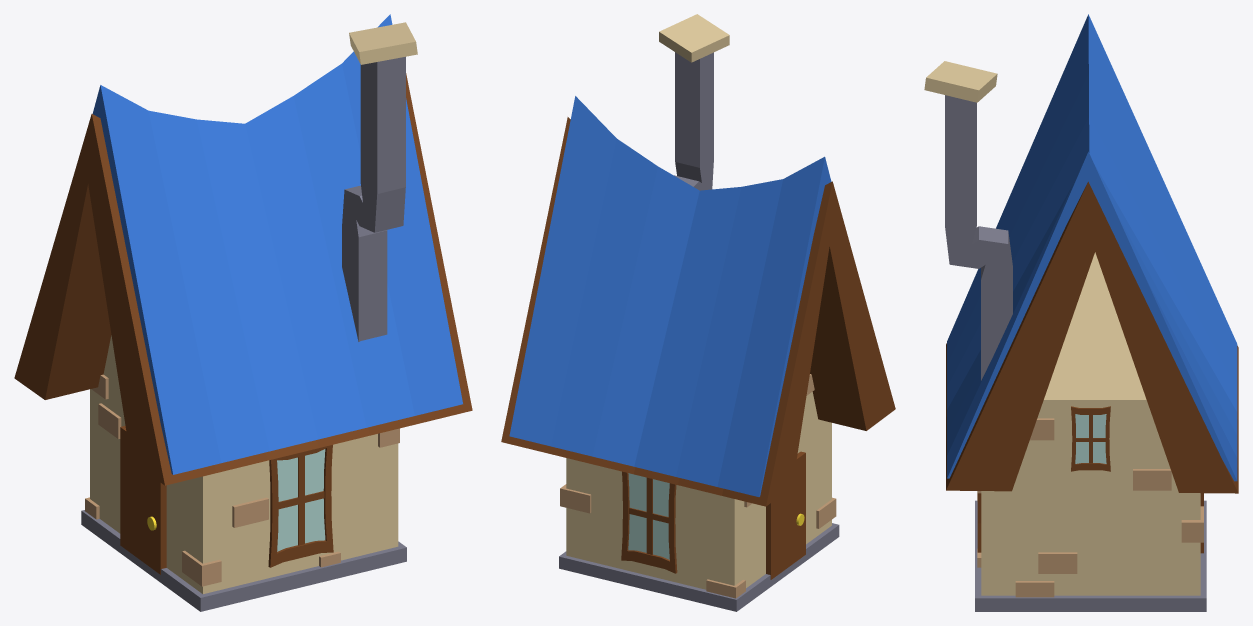
The model's file is HouseBlue.fbx.
The picture shows the model from 3 angles, left to right: view 1: azimuth 30°, elevation 25°; view 2: azimuth 150°, elevation 25°; view 3: azimuth 270°, elevation 25°; orthographic projection. The views are drawn at different scales.
Parts seen in each view (by area): view 1: Roof, UnderLayer, Base, Pole, BaseConcrete, Cube, Glass.001, frame.001, PoleTop, Cube.005, Cube.009; view 2: Roof, UnderLayer, Base, Pole, BaseConcrete, Cube, Glass.002, PoleTop, frame.002, Cube.013, Cross.004, Cube.007; view 3: Roof, Base, UnderLayer, Pole, BaseConcrete, PoleTop, Glass.004, frame.004, Cube.014, Cube.010, Cube.012, Cube.013 (+1 smaller).
Boxes of the visible parts, left/top/right/bottom form: Roof: left=92, top=14, right=462, bottom=474; UnderLayer: left=14, top=73, right=472, bottom=485; Base: left=90, top=335, right=398, bottom=593; Pole: left=342, top=56, right=405, bottom=341; BaseConcrete: left=81, top=510, right=406, bottom=611; Cube: left=120, top=425, right=166, bottom=574; Glass.001: left=277, top=449, right=325, bottom=551; frame.001: left=268, top=445, right=333, bottom=567; PoleTop: left=349, top=22, right=417, bottom=64; Cube.005: left=182, top=550, right=221, bottom=586; Cube.009: left=232, top=497, right=268, bottom=527; Roof: left=509, top=96, right=831, bottom=496; UnderLayer: left=501, top=117, right=895, bottom=506; Base: left=566, top=392, right=831, bottom=589; Pole: left=674, top=52, right=713, bottom=190; BaseConcrete: left=559, top=523, right=839, bottom=611; Cube: left=766, top=451, right=805, bottom=579; Glass.002: left=628, top=473, right=669, bottom=559; PoleTop: left=659, top=14, right=729, bottom=62; frame.002: left=621, top=471, right=677, bottom=573; Cube.013: left=560, top=484, right=591, bottom=513; Cross.004: left=646, top=477, right=652, bottom=554; Cube.007: left=706, top=579, right=745, bottom=598; Roof: left=947, top=14, right=1237, bottom=481; Base: left=981, top=252, right=1200, bottom=595; UnderLayer: left=946, top=181, right=1238, bottom=493; Pole: left=945, top=95, right=1012, bottom=380; BaseConcrete: left=975, top=500, right=1206, bottom=611; PoleTop: left=924, top=61, right=997, bottom=102; Glass.004: left=1075, top=414, right=1106, bottom=463; frame.004: left=1071, top=406, right=1110, bottom=471; Cube.014: left=1038, top=552, right=1077, bottom=573; Cube.010: left=1133, top=469, right=1171, bottom=490; Cube.012: left=1015, top=581, right=1054, bottom=597; Cube.013: left=1181, top=506, right=1203, bottom=542.
Size of the model in its own units: 315 by 530 by 287.
